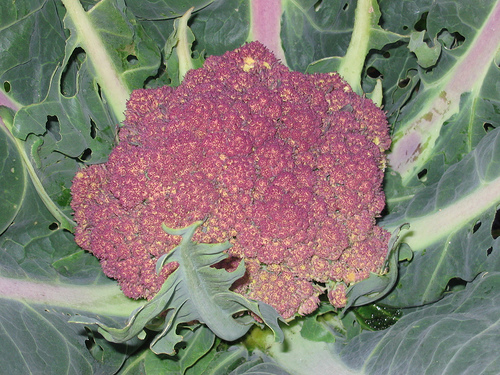cauliflower: (69, 41, 392, 324)
